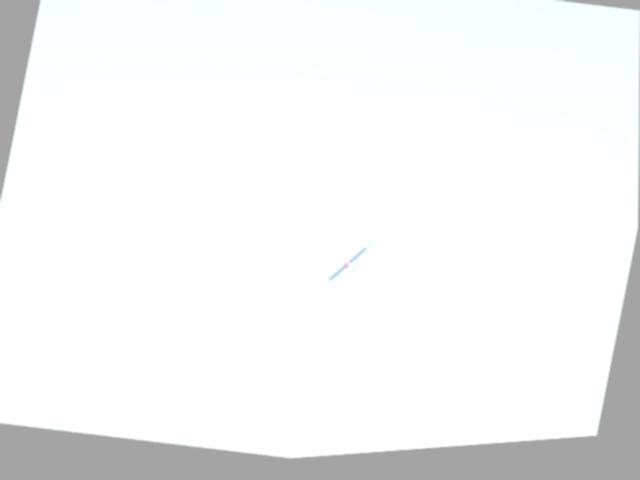uav: (309, 227, 379, 309)
